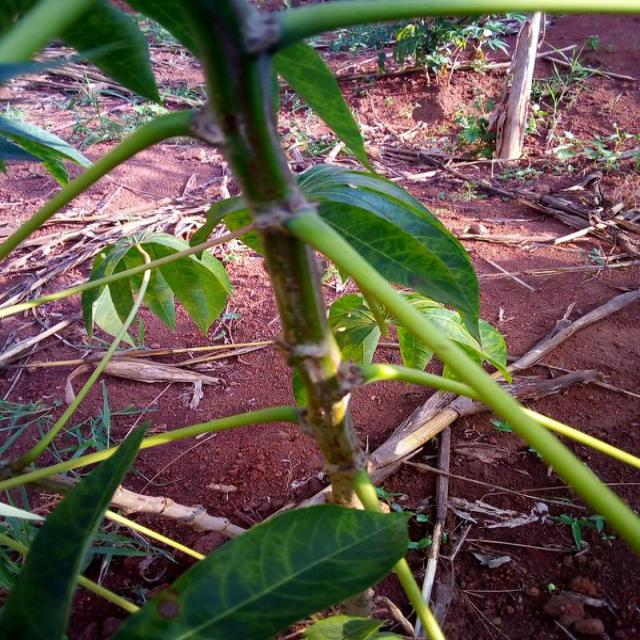cassava leaf: (219, 162, 482, 350), (108, 500, 414, 638), (80, 228, 232, 349)
